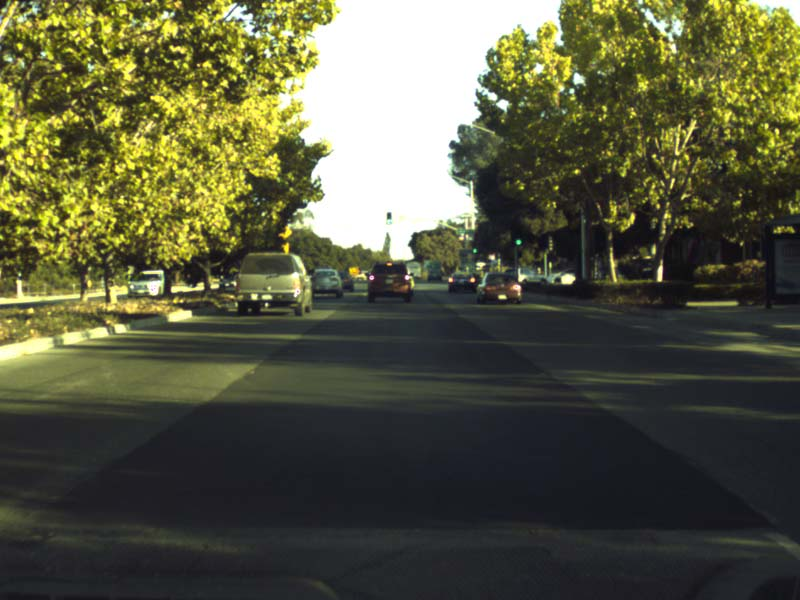Green: (511, 225, 522, 246), (471, 241, 476, 253), (386, 212, 391, 223)
